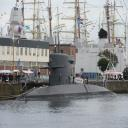submarine: (17, 35, 118, 101)
